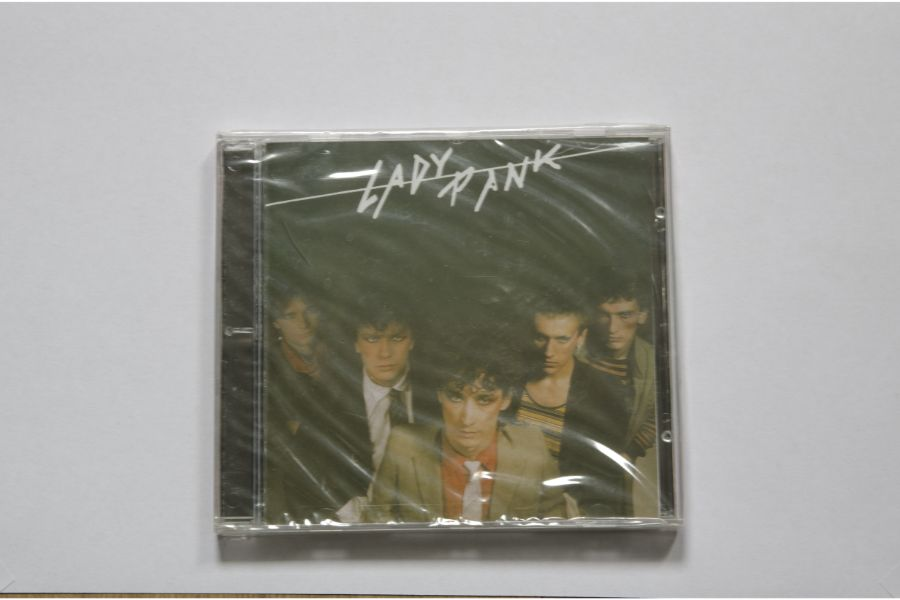album: (205, 130, 684, 529)
